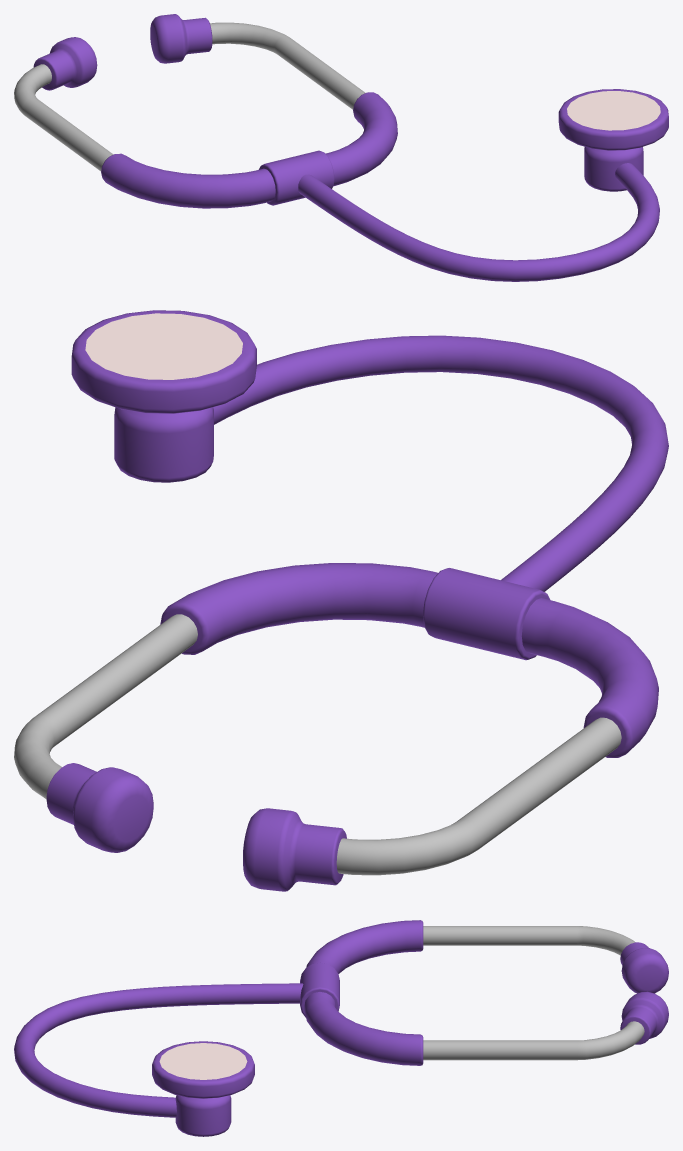
Rendered from Public_3_Stethoscope_1.glb.
3 renders of one model, top to bottom at view 1: azimuth 30°, elevation 25°; view 2: azimuth 150°, elevation 25°; view 3: azimuth 270°, elevation 25°, orthographic. The views are drawn at different scales.
Visible parts, largest first — view 1: Public_3_Stethoscope_1; view 2: Public_3_Stethoscope_1; view 3: Public_3_Stethoscope_1.
Part boxes in pixels (left/top/right/bottom): Public_3_Stethoscope_1: left=14, top=14, right=668, bottom=281; Public_3_Stethoscope_1: left=14, top=310, right=668, bottom=891; Public_3_Stethoscope_1: left=14, top=920, right=668, bottom=1136.
Size of the model in its own units: 3.33 by 0.5281 by 4.57.
Materials: 1 (1 with a texture image).
